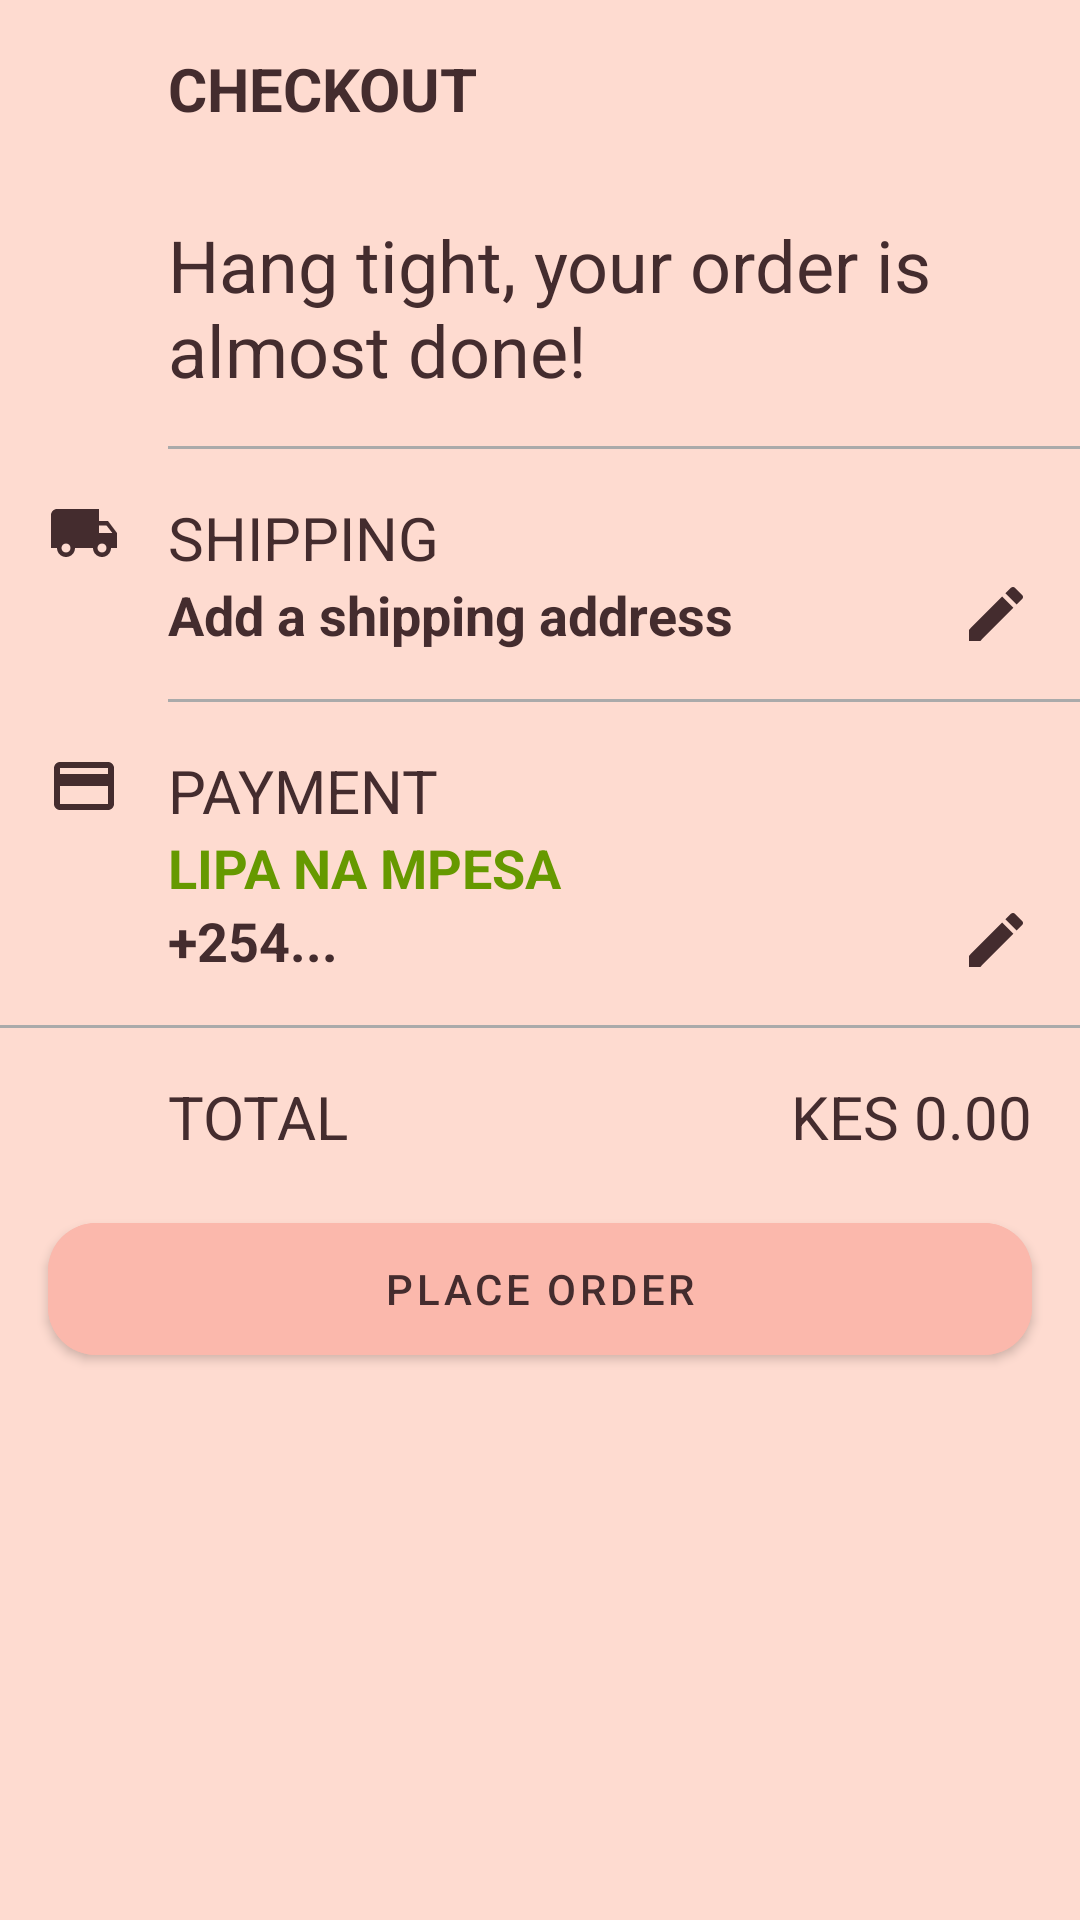

Icon click points for this 1080 x 1920 phone screenshot, format [x,y]:
edit: [996,614], [996,940]
